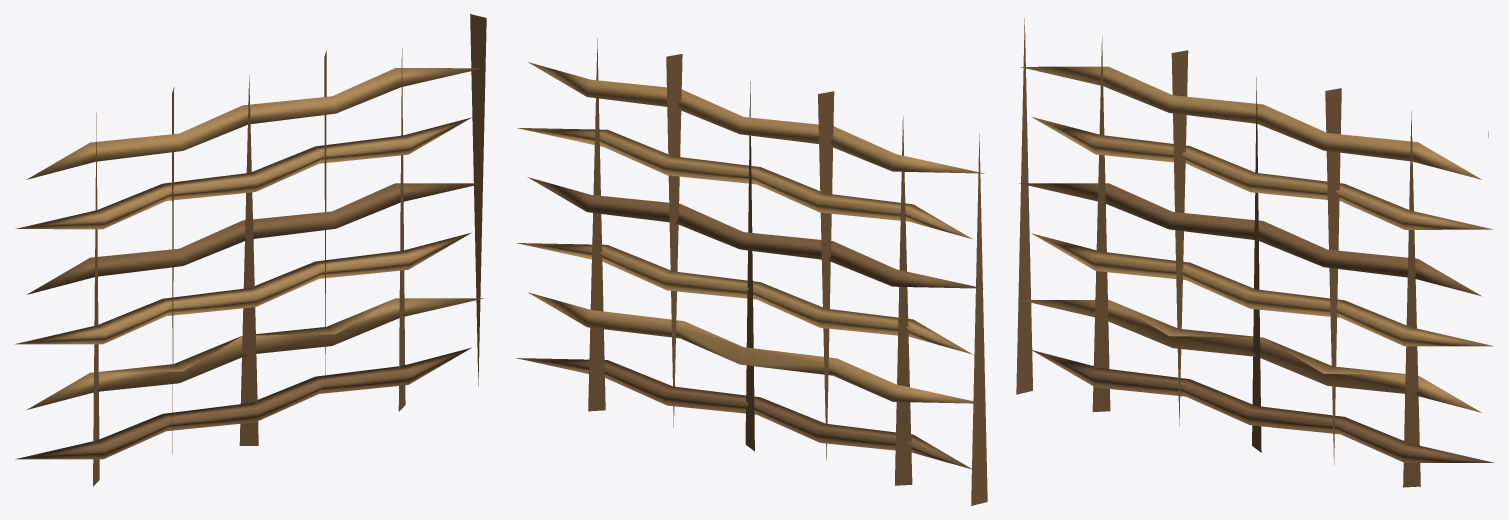
File: fence-willow-run.lod1.glb
3 renders of one model, left to right at view 1: azimuth 30°, elevation 25°; view 2: azimuth 150°, elevation 25°; view 3: azimuth 330°, elevation 25°, orthographic.
Visible parts, largest first — view 1: fence-willow-run_lod1; view 2: fence-willow-run_lod1; view 3: fence-willow-run_lod1.
Boxes of the visible parts, x1,y1,x2,y2 form: fence-willow-run_lod1: (15, 14, 486, 486); fence-willow-run_lod1: (515, 38, 987, 505); fence-willow-run_lod1: (1016, 18, 1494, 487).
Size of the model in its own units: 1.02 by 0.78 by 0.0783.
